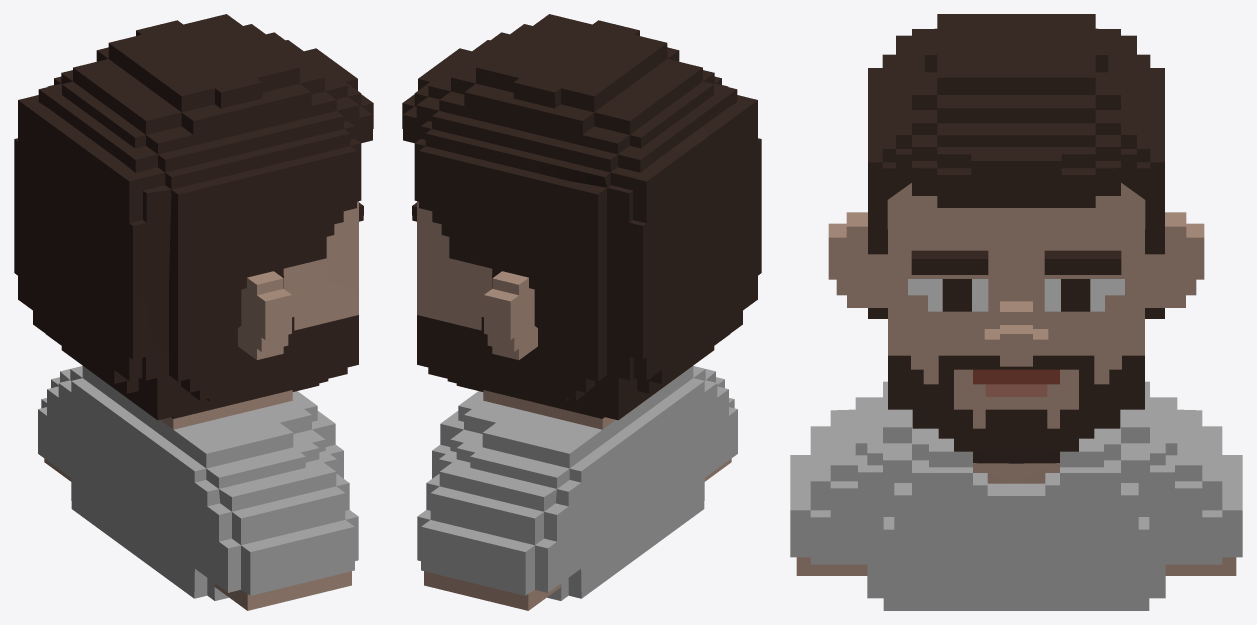
The model's file is voxel-avatar.glb.
The picture shows the model from 3 angles, left to right: view 1: azimuth 30°, elevation 25°; view 2: azimuth 150°, elevation 25°; view 3: azimuth 270°, elevation 25°; orthographic projection. The views are drawn at different scales.
Parts seen in each view (by area): view 1: Plane; view 2: Plane; view 3: Plane.
Boxes of the visible parts, x1,y1,x2,y2 form: Plane: (14,14,373,610); Plane: (402,14,761,610); Plane: (790,14,1242,610).
Size of the model in its own units: 0.573 by 0.9999 by 0.7872.
